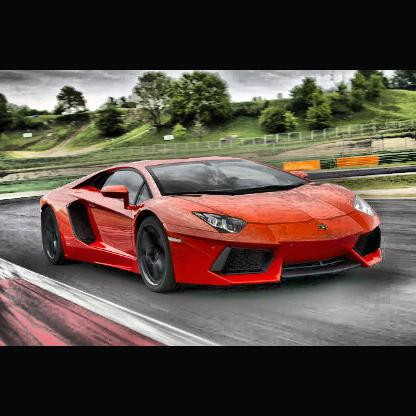Lamborghini Aventador Coupe 2012: (39, 157, 384, 294)
